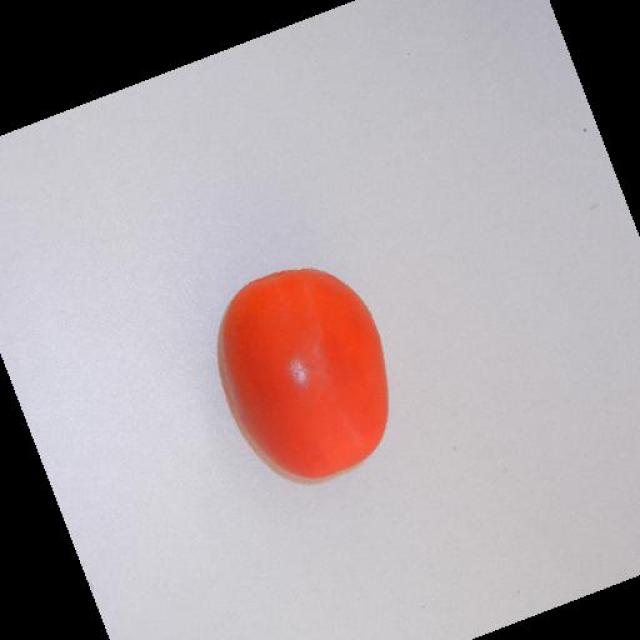tomato: (216, 269, 390, 484)
